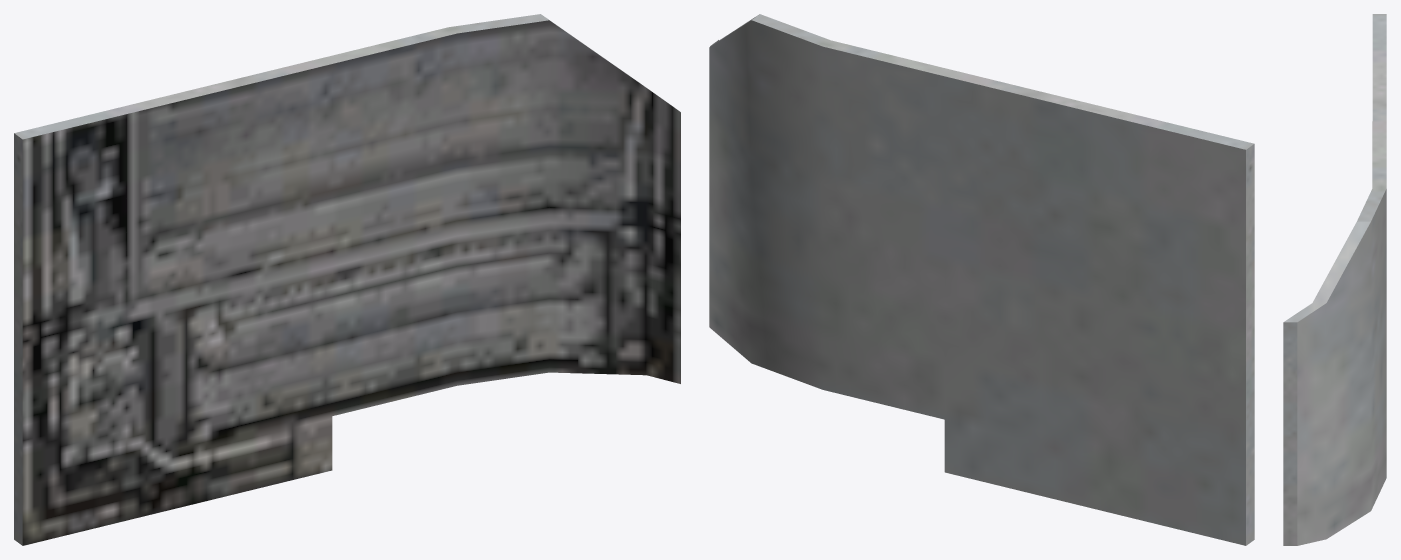
File: lambda_geardoor_b2.fbx
3 renders of one model, left to right at view 1: azimuth 30°, elevation 25°; view 2: azimuth 150°, elevation 25°; view 3: azimuth 270°, elevation 25°, orthographic. The views are drawn at different scales.
Visible parts, largest first — view 1: mesh_node; view 2: mesh_node; view 3: mesh_node.
Part boxes in pixels (x1,y1,x2,y2): mesh_node: (14, 14, 680, 545); mesh_node: (709, 14, 1254, 545); mesh_node: (1283, 14, 1386, 545).
Bounding box in the file's own units: 2.92 × 1.88 × 0.5259.
